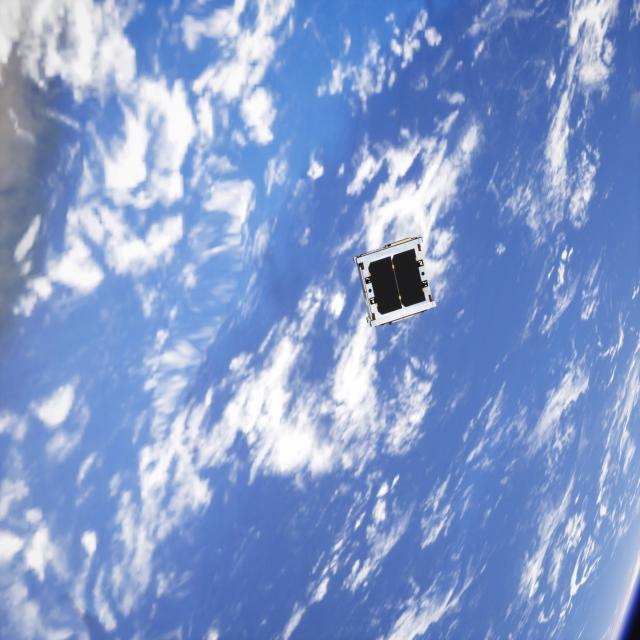medium_debris: (348, 234, 438, 324)
